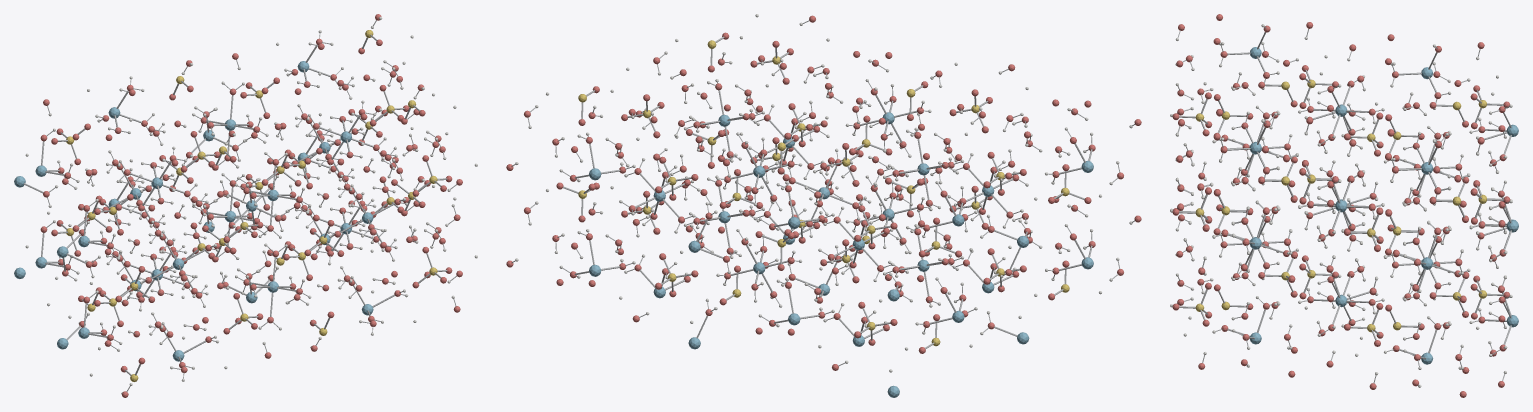
Rendered from FeSO4_7H2O_AR_2x2x2.glb.
3 views of the same model, side by side, from view 1: azimuth 30°, elevation 25°; view 2: azimuth 150°, elevation 25°; view 3: azimuth 270°, elevation 25° (orthographic). The views are drawn at different scales.
Bounding box in the file's own units: 33.15 × 13.52 × 21.61.
